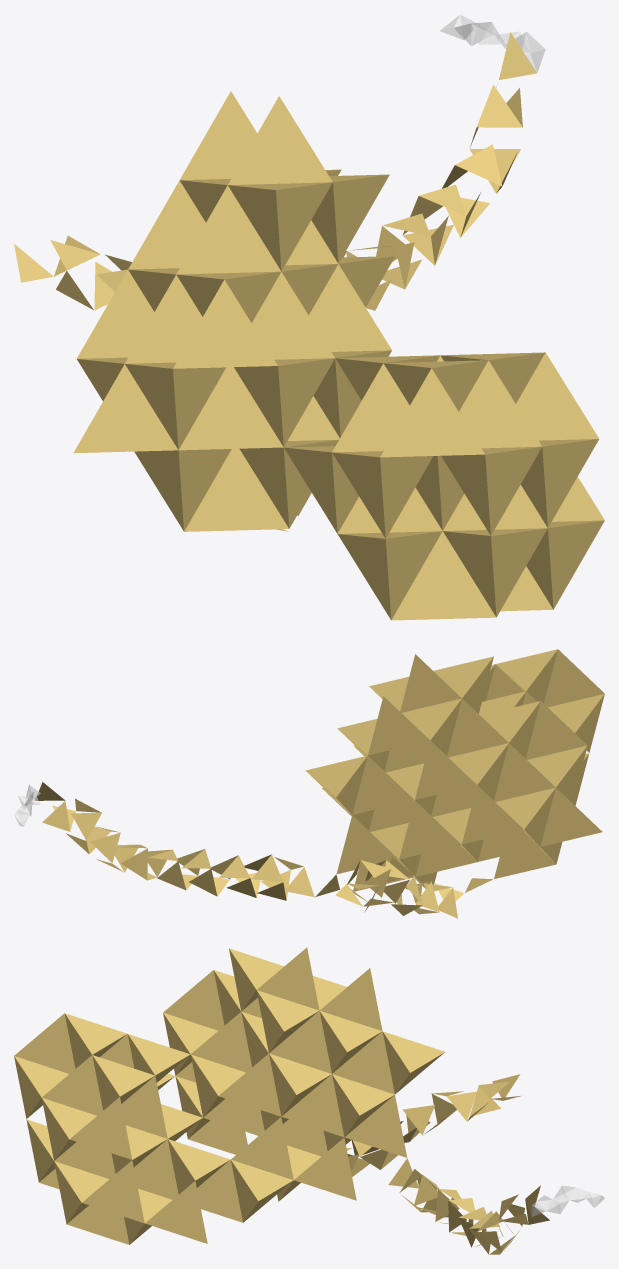
The model's file is GProtein_FacesIsolated.fbx.
The picture shows the model from 3 angles, top to bottom: view 1: azimuth 30°, elevation 25°; view 2: azimuth 150°, elevation 25°; view 3: azimuth 270°, elevation 25°; orthographic projection. The views are drawn at different scales.
Parts seen in each view (by area): view 1: CON_GAlphaMesh_B.154, CON_GAlphaMesh_B.144, CON_GAlphaMesh_B.253, CON_GAlphaMesh_B.053, CON_GAlphaMesh_B.032, CON_GAlphaMesh_B.353, CON_GAlphaMesh_B.285, CON_GAlphaMesh_B.246, CON_GAlphaMesh_B.217, CON_GAlphaMesh_B.047, CON_GAlphaMesh_B.021, CON_GAlphaMesh_B.300 (+55 smaller); view 2: CON_GAlphaMesh_B.187, CON_GAlphaMesh_B.010, CON_GAlphaMesh_B.197, CON_GAlphaMesh_B.251, CON_GAlphaMesh_B.381, CON_GAlphaMesh_B.233, CON_GAlphaMesh_B.258, CON_GAlphaMesh_B.250, CON_GAlphaMesh_B.176, CON_GAlphaMesh_B.009, CON_GAlphaMesh_B.143, CON_GAlphaMesh_B.052 (+40 smaller); view 3: CON_GAlphaMesh_B.319, CON_GAlphaMesh_B.183, CON_GAlphaMesh_B.222, CON_GAlphaMesh_B.374, CON_GAlphaMesh_B.379, CON_GAlphaMesh_B.193, CON_GAlphaMesh_B.364, CON_GAlphaMesh_B.175, CON_GAlphaMesh_B.192, CON_GAlphaMesh_B.221, CON_GAlphaMesh_B.320, CON_GAlphaMesh_B.390 (+57 smaller).
Boxes of the visible parts, box(x1,y1,x2,y2) form: CON_GAlphaMesh_B.154: box(391, 531, 496, 620); CON_GAlphaMesh_B.144: box(380, 368, 484, 457); CON_GAlphaMesh_B.253: box(176, 185, 280, 274); CON_GAlphaMesh_B.053: box(173, 280, 277, 368); CON_GAlphaMesh_B.032: box(73, 364, 177, 453); CON_GAlphaMesh_B.353: box(228, 96, 332, 185); CON_GAlphaMesh_B.285: box(184, 448, 288, 531); CON_GAlphaMesh_B.246: box(179, 367, 283, 450); CON_GAlphaMesh_B.217: box(251, 272, 334, 359); CON_GAlphaMesh_B.047: box(516, 352, 598, 440); CON_GAlphaMesh_B.021: box(309, 264, 391, 351); CON_GAlphaMesh_B.300: box(459, 360, 541, 448); CON_GAlphaMesh_B.187: box(399, 800, 461, 859); CON_GAlphaMesh_B.010: box(368, 696, 429, 755); CON_GAlphaMesh_B.197: box(415, 741, 476, 799); CON_GAlphaMesh_B.251: box(447, 698, 508, 757); CON_GAlphaMesh_B.381: box(461, 785, 523, 844); CON_GAlphaMesh_B.233: box(525, 701, 587, 759); CON_GAlphaMesh_B.258: box(540, 788, 602, 846); CON_GAlphaMesh_B.250: box(494, 743, 555, 801); CON_GAlphaMesh_B.176: box(352, 756, 413, 814); CON_GAlphaMesh_B.009: box(400, 654, 461, 712); CON_GAlphaMesh_B.143: box(544, 649, 604, 707); CON_GAlphaMesh_B.052: box(336, 815, 398, 873); CON_GAlphaMesh_B.319: box(82, 1160, 144, 1223); CON_GAlphaMesh_B.183: box(332, 1031, 394, 1094); CON_GAlphaMesh_B.222: box(218, 1053, 281, 1116); CON_GAlphaMesh_B.374: box(257, 947, 319, 1010); CON_GAlphaMesh_B.379: box(320, 968, 382, 1030); CON_GAlphaMesh_B.193: box(281, 1074, 344, 1136); CON_GAlphaMesh_B.364: box(269, 1011, 331, 1073); CON_GAlphaMesh_B.175: box(344, 1095, 407, 1157); CON_GAlphaMesh_B.192: box(294, 1138, 356, 1200); CON_GAlphaMesh_B.221: box(231, 1117, 293, 1179); CON_GAlphaMesh_B.320: box(69, 1097, 132, 1159); CON_GAlphaMesh_B.390: box(145, 1181, 207, 1243).
Bounding box in the file's own units: 1530 × 896 × 1770.
